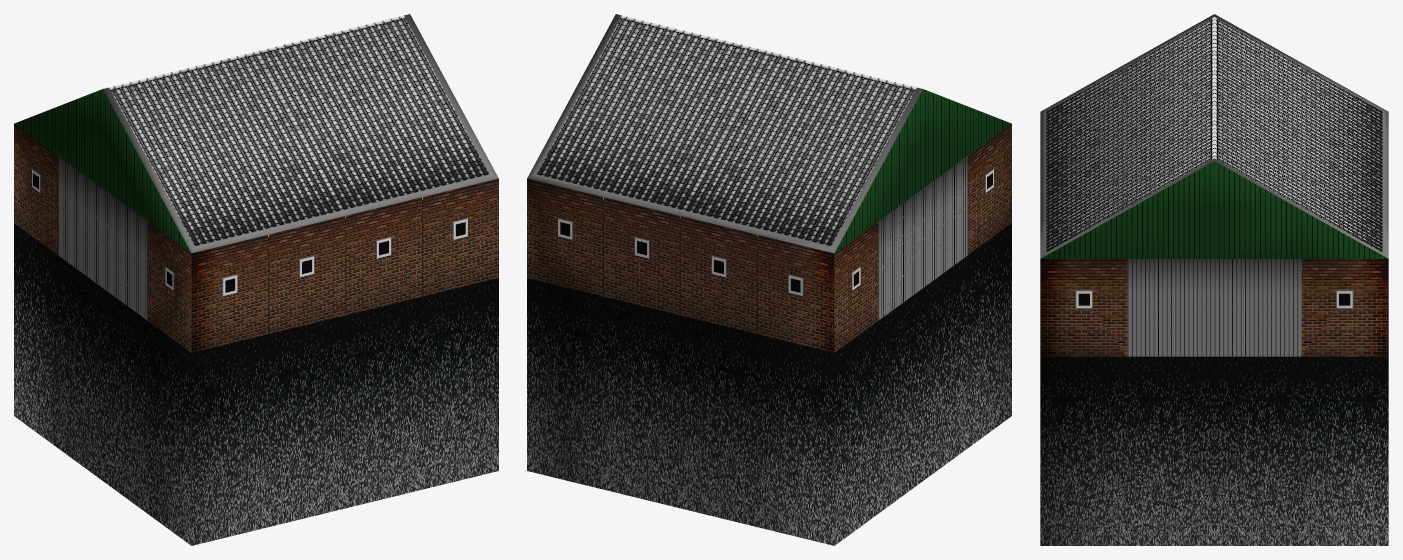
The model's file is schuur_mod2_1a.fbx.
The picture shows the model from 3 angles, left to right: view 1: azimuth 30°, elevation 25°; view 2: azimuth 150°, elevation 25°; view 3: azimuth 270°, elevation 25°; orthographic projection.
Visible parts, largest first — view 1: schuur_mod2_1a; view 2: schuur_mod2_1a; view 3: schuur_mod2_1a.
Part boxes in pixels (x1,y1,x2,y2): schuur_mod2_1a: (14,14,498,545); schuur_mod2_1a: (527,14,1011,545); schuur_mod2_1a: (1040,14,1388,545).
Bounding box in the file's own units: 1500 × 1829 × 1500.
